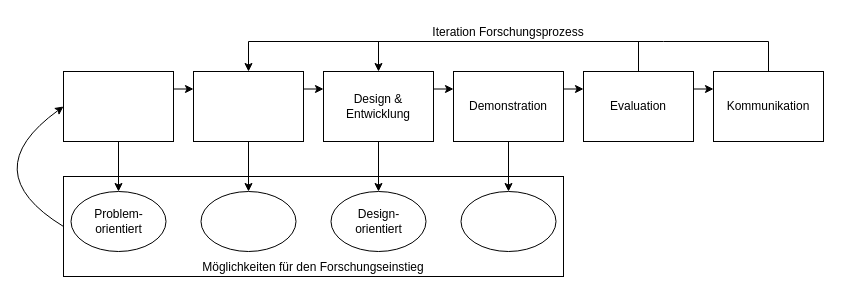
This 842x294 diagram has some shape labels left out. Here are the shapes that lost their labels. From the top down, the centre of each, then its label:
At point (118, 106): "Problem & Relevanz".
At point (248, 106): "Zieldefinition".
At point (248, 221): "Ziel- orientiert".
At point (508, 221): "Kunden- orientiert".
